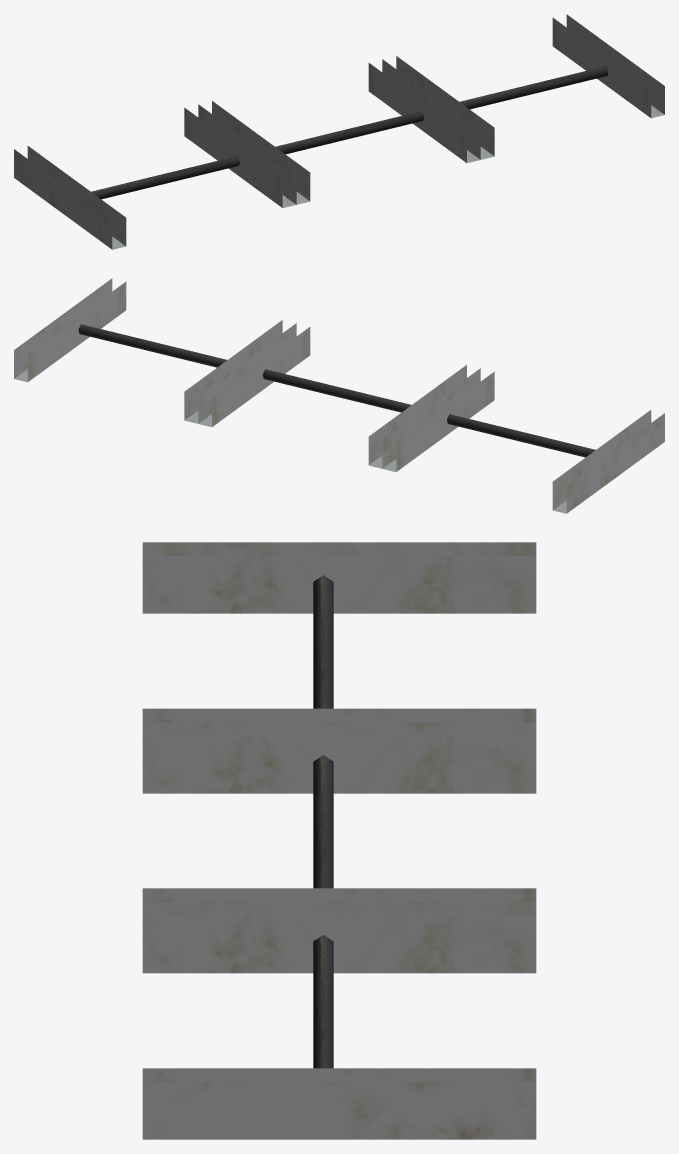
Rendered from Factory_Ceiling_Piece_3.FBX.
3 renders of one model, top to bottom at view 1: azimuth 30°, elevation 25°; view 2: azimuth 150°, elevation 25°; view 3: azimuth 270°, elevation 25°, orthographic. The views are drawn at different scales.
Parts seen in each view (by area): view 1: Object008; view 2: Object008; view 3: Object008.
Boxes of the visible parts, x1,y1,x2,y2 form: Object008: [14, 14, 664, 249]; Object008: [14, 278, 664, 513]; Object008: [142, 542, 536, 1139].
Bounding box in the file's own units: 1200 × 60 × 370.
Materials: 1 (1 with a texture image).
